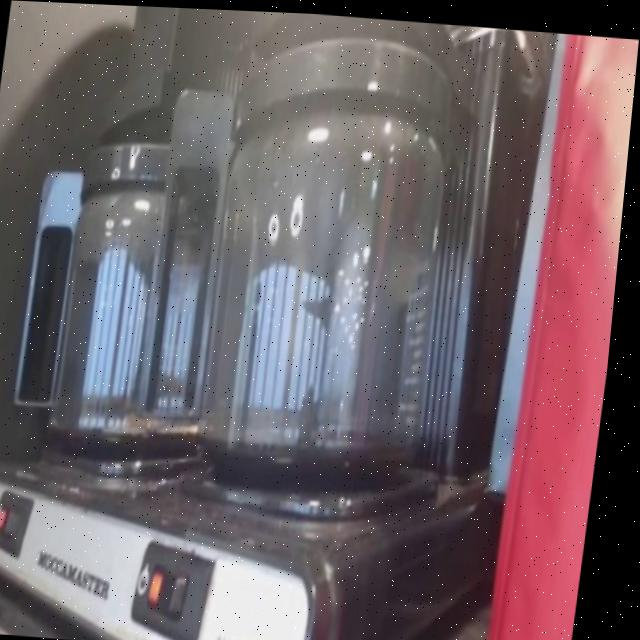nocoffee: (170, 7, 497, 521), (8, 79, 253, 458)
